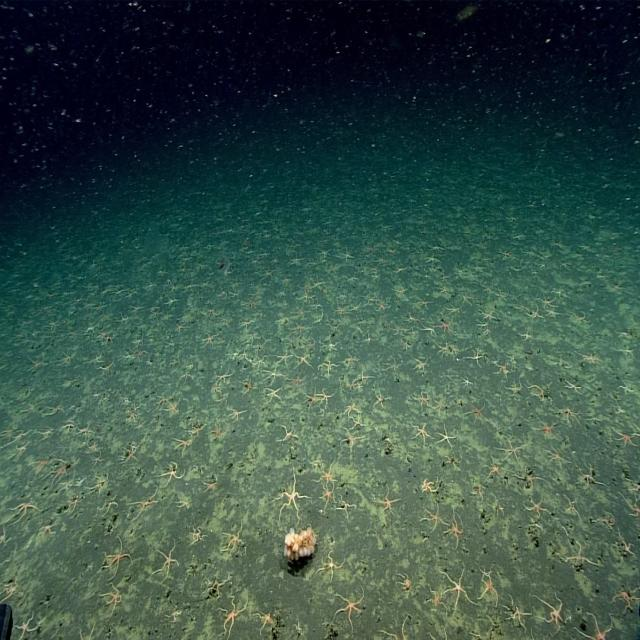brittle-stars: (276, 468, 306, 524), (218, 596, 248, 638), (576, 611, 612, 640), (335, 590, 362, 628), (104, 539, 131, 576), (558, 542, 596, 567), (319, 543, 342, 584), (536, 592, 564, 625), (444, 569, 468, 607), (154, 542, 179, 578), (127, 485, 158, 514), (221, 523, 245, 557), (506, 599, 530, 630), (446, 509, 465, 546), (11, 497, 39, 522), (612, 584, 638, 610), (533, 415, 558, 441), (161, 460, 185, 486), (102, 582, 122, 612), (527, 382, 552, 406), (611, 427, 638, 449), (501, 437, 523, 463), (479, 576, 498, 606), (377, 486, 396, 516), (515, 466, 539, 489), (206, 571, 227, 597), (422, 505, 443, 531), (15, 613, 35, 640), (0, 574, 19, 602), (524, 494, 546, 518), (547, 446, 568, 471), (436, 424, 456, 450), (427, 586, 445, 612), (256, 606, 274, 630), (319, 482, 337, 506), (488, 453, 503, 481), (421, 475, 440, 497), (49, 464, 69, 484), (563, 377, 583, 396), (343, 430, 361, 451), (467, 404, 485, 425), (319, 458, 334, 483), (413, 420, 429, 443), (121, 445, 138, 466), (466, 346, 483, 367), (175, 436, 193, 455), (279, 424, 298, 442), (431, 396, 448, 416), (412, 390, 428, 411), (265, 386, 283, 404), (189, 527, 207, 545), (201, 475, 218, 494), (343, 400, 360, 419), (263, 366, 282, 383), (226, 405, 244, 422), (215, 366, 232, 384), (164, 399, 180, 418), (40, 518, 55, 538), (319, 357, 336, 374), (240, 378, 256, 396), (386, 356, 402, 374), (494, 360, 508, 380), (539, 293, 554, 311), (564, 498, 578, 517), (374, 386, 385, 410), (77, 425, 94, 440), (176, 496, 193, 511), (482, 306, 496, 324), (210, 422, 223, 441), (306, 388, 318, 408), (318, 388, 332, 405), (277, 349, 291, 366), (204, 330, 217, 348), (351, 415, 366, 430), (296, 353, 311, 368), (436, 320, 452, 334), (345, 352, 359, 368), (291, 372, 304, 389), (415, 356, 427, 374), (190, 423, 203, 438), (240, 316, 253, 331), (132, 300, 144, 316), (253, 354, 266, 368), (462, 375, 474, 390), (546, 305, 558, 320), (422, 325, 436, 337), (88, 442, 100, 453), (348, 380, 358, 392)
